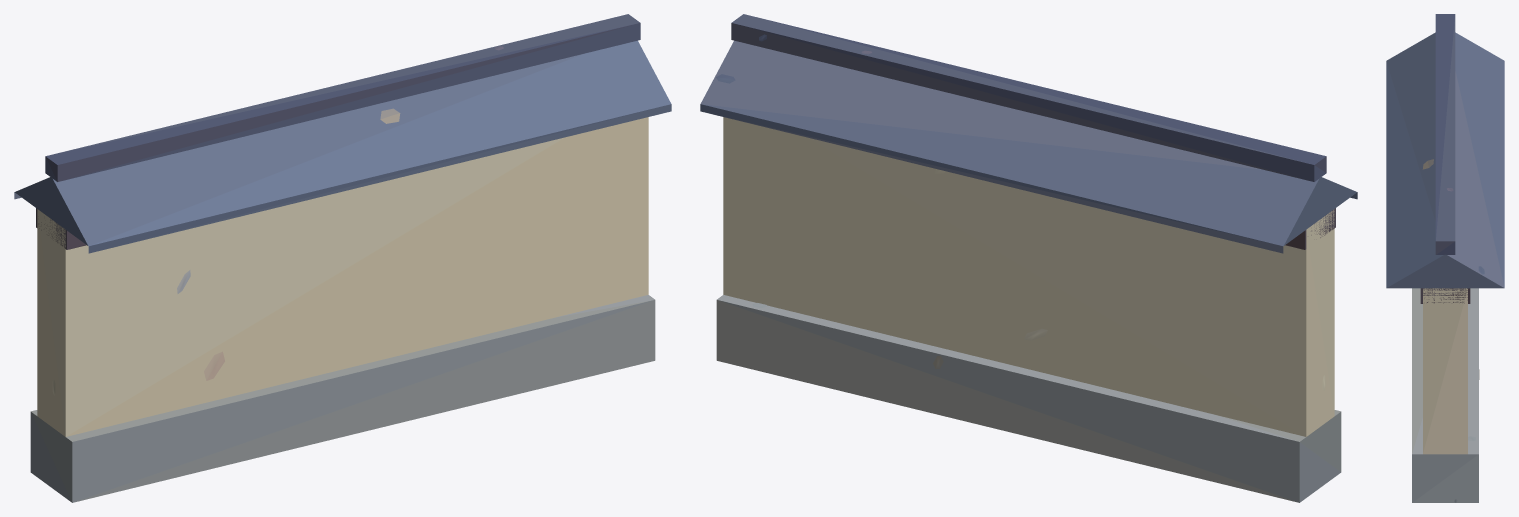
The model's file is HK_Dobei_5m.lod.glb.
The picture shows the model from 3 angles, left to right: view 1: azimuth 30°, elevation 25°; view 2: azimuth 150°, elevation 25°; view 3: azimuth 270°, elevation 25°; orthographic projection. The views are drawn at different scales.
Parts seen in each view (by area): view 1: HK_Dobei_5m; view 2: HK_Dobei_5m; view 3: HK_Dobei_5m.
Boxes of the visible parts, bbox=[...] form: HK_Dobei_5m: bbox=[14, 14, 671, 502]; HK_Dobei_5m: bbox=[700, 14, 1357, 502]; HK_Dobei_5m: bbox=[1386, 14, 1504, 502].
Size of the model in its own units: 5.01 by 2.69 by 1.1.
